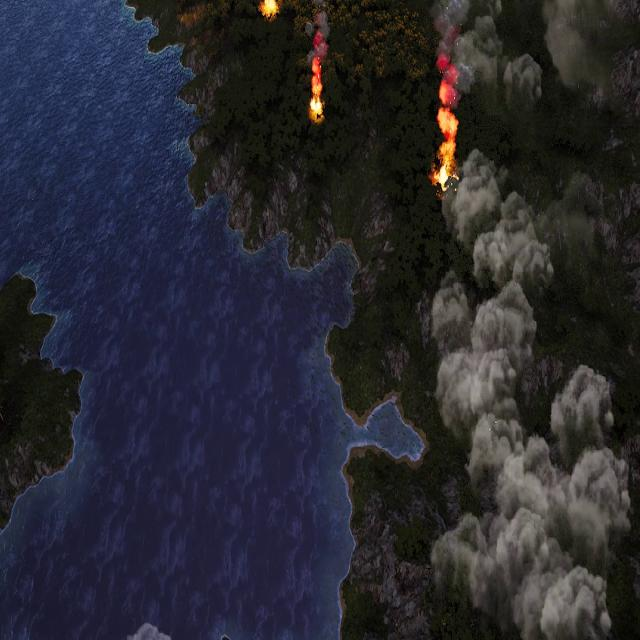fire: (308, 59, 325, 118), (431, 156, 458, 192), (262, 0, 278, 16)
smoke: (430, 145, 632, 639), (424, 0, 630, 92), (435, 108, 460, 162), (307, 14, 330, 60)
